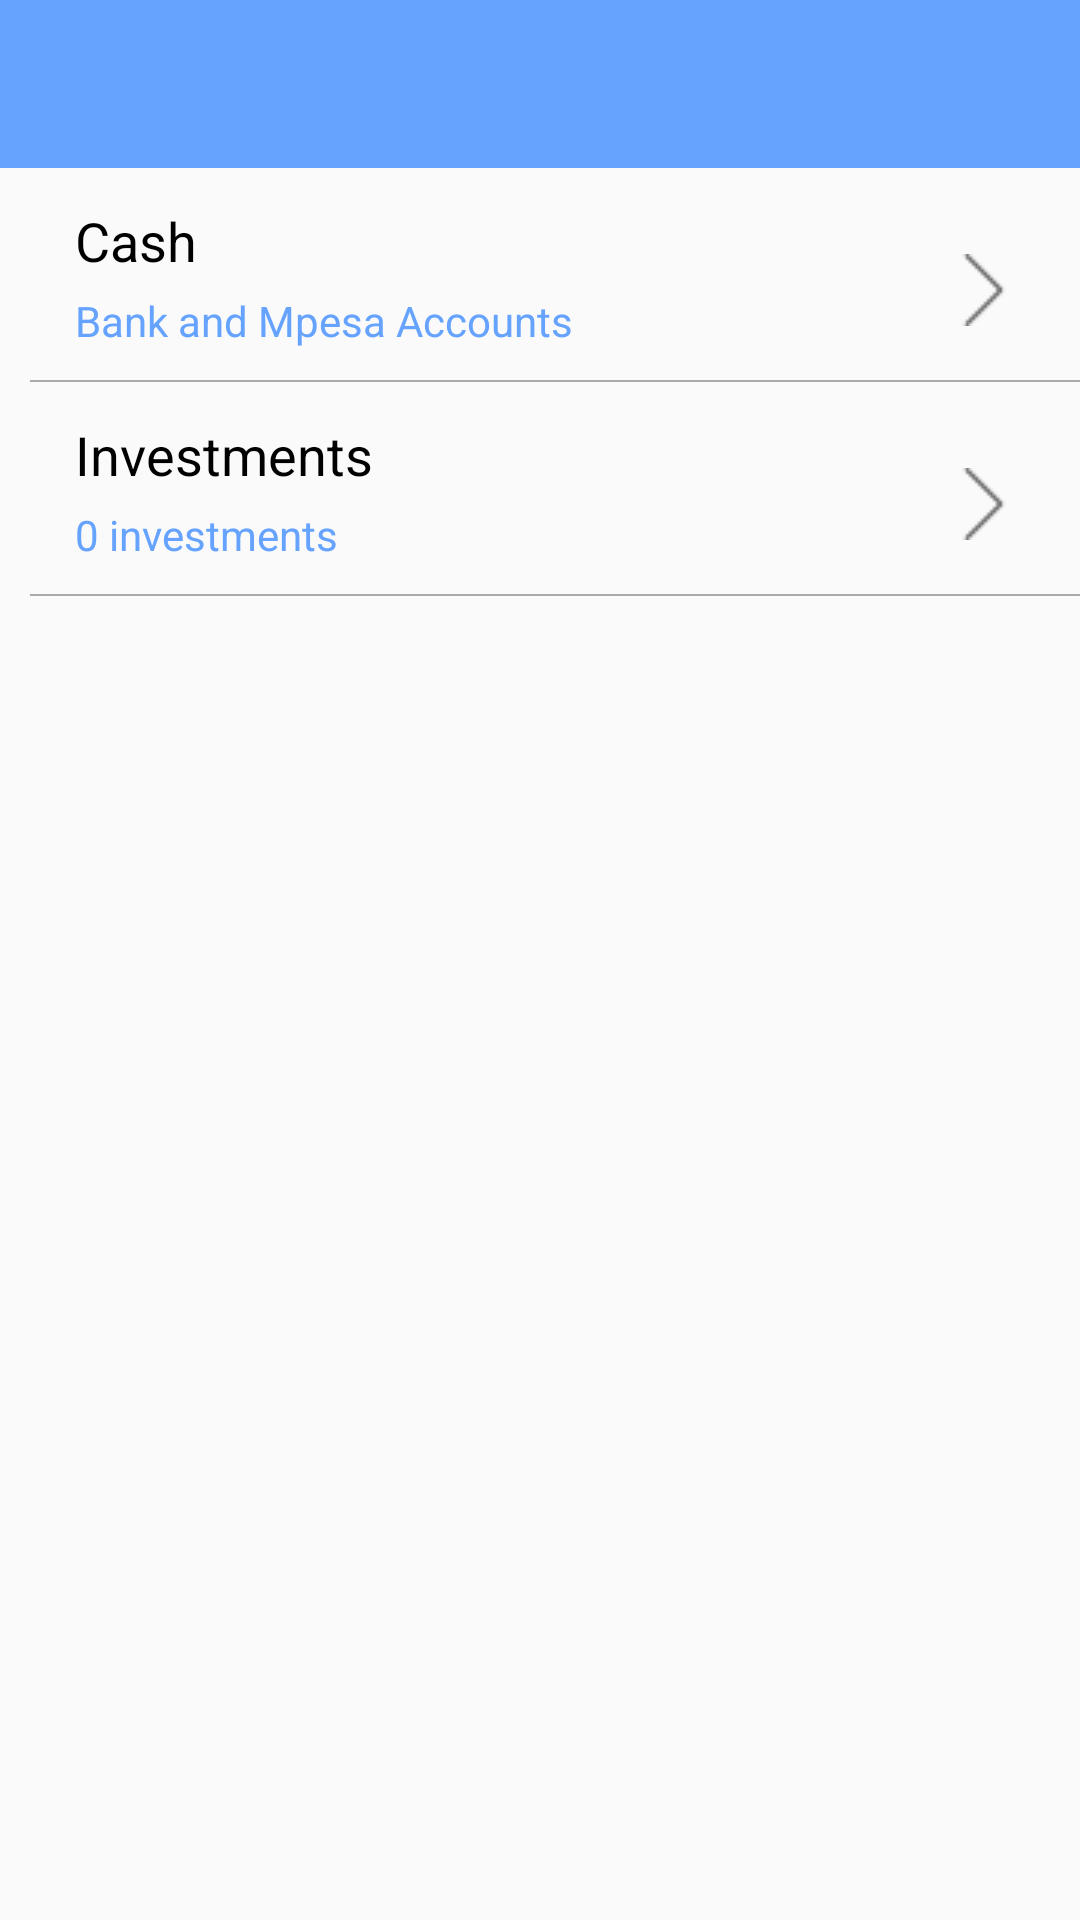

Icon bounding boxes for this 1080w x 1920h phone screenshot, format BBox(x1, y1, x2, y2):
next: BBox(964, 254, 1003, 326), BBox(964, 468, 1003, 540)
